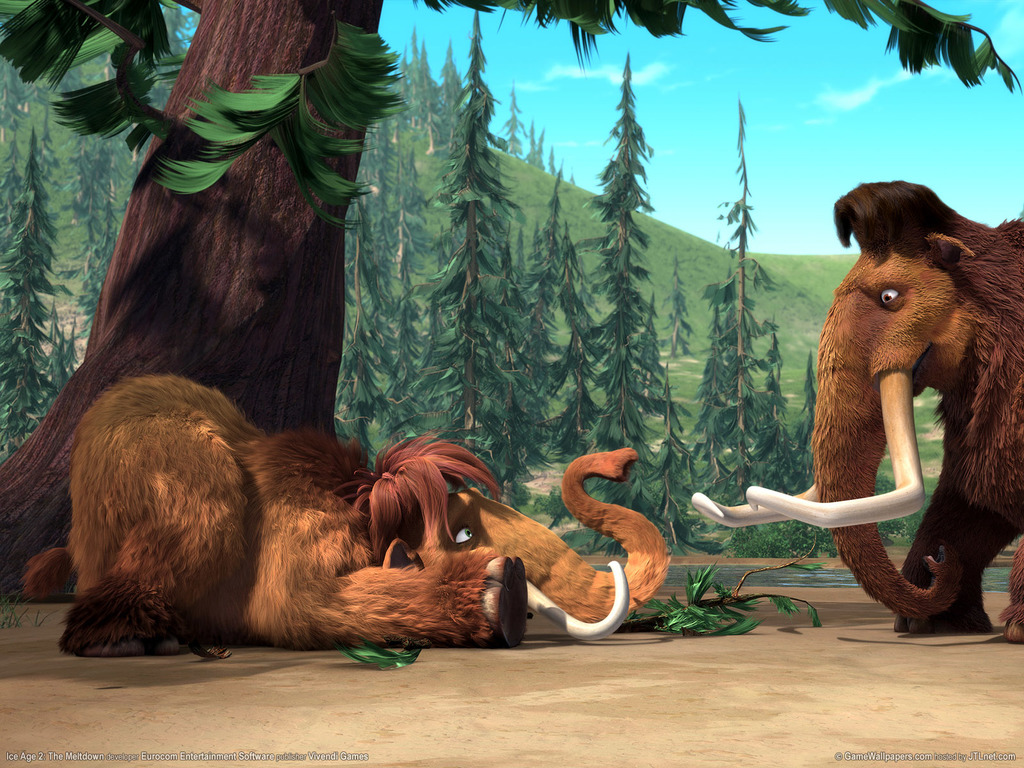Tree: (0, 0, 1023, 669)
